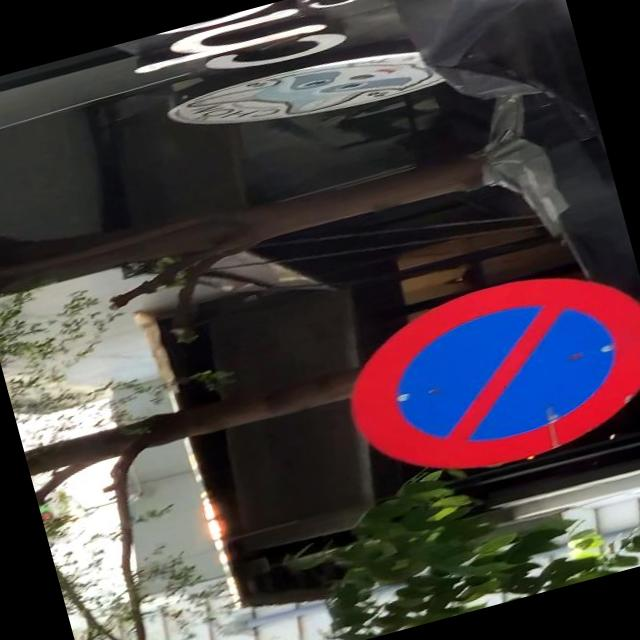P-131a: (331, 248, 640, 498)
